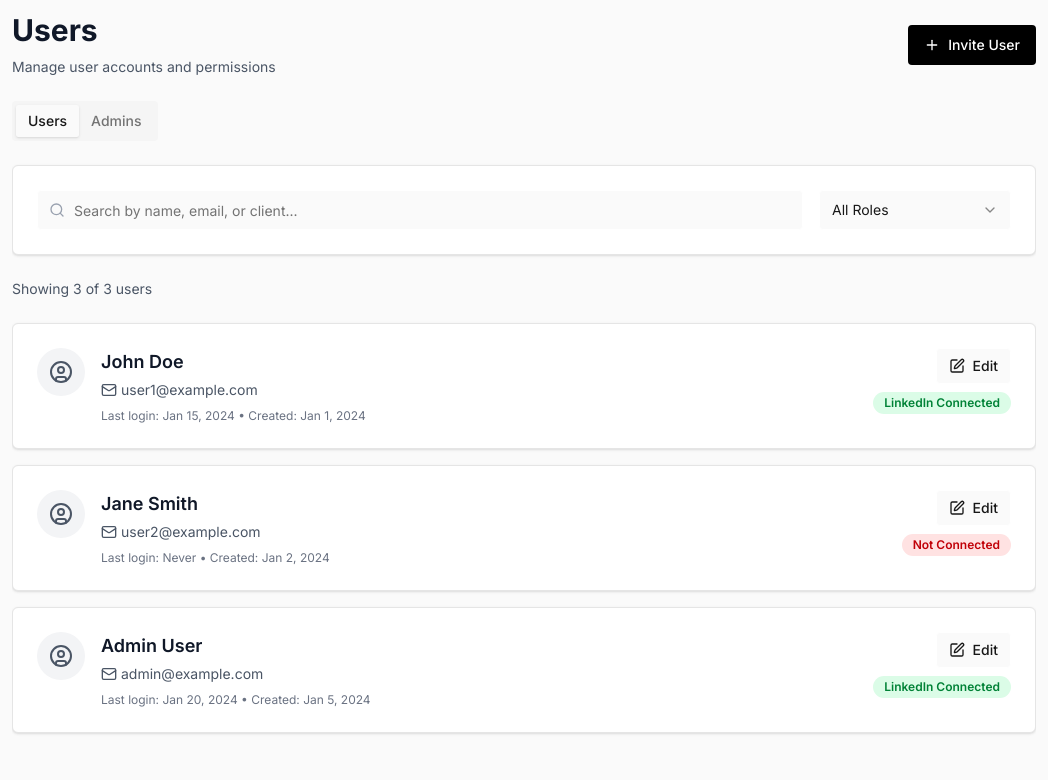
AdminUsersPage › Search Functionality › should filter users by search term
Expected: the heading "John Doe" is shown, [101,348,184,376]
Type "john" into the field with placeholder "Search by name, email, or client..." at point(420, 210), box [37,190,803,230]
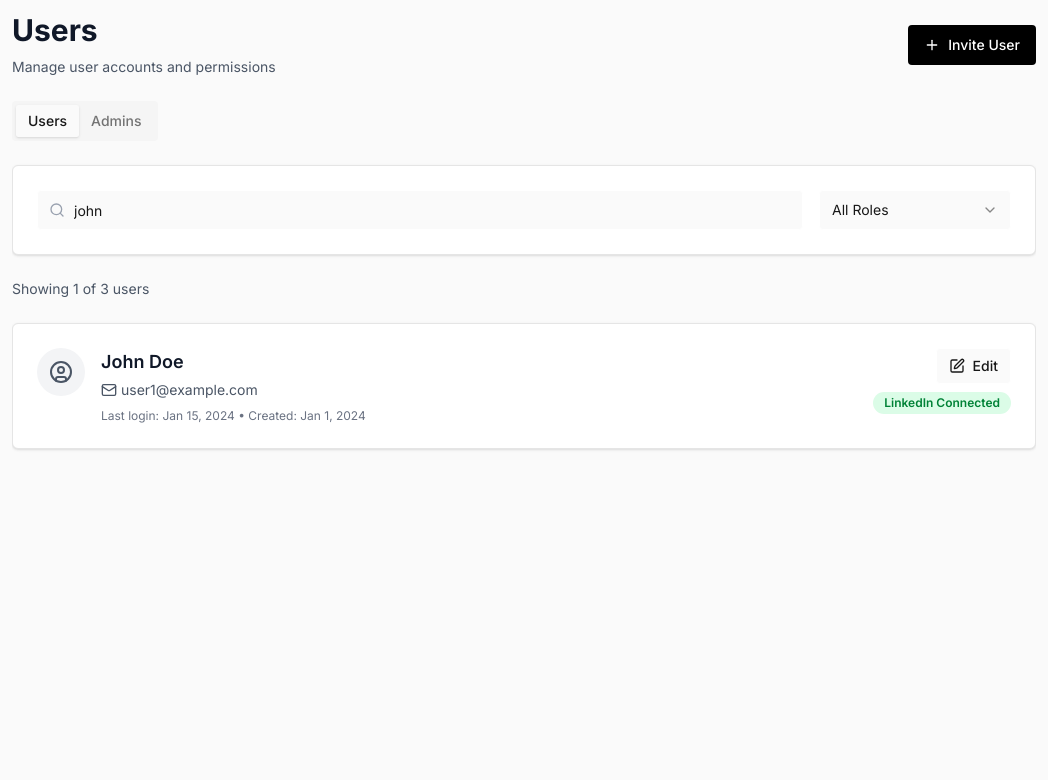
Expected: the heading "John Doe" is shown, [101,348,184,376]
Expected: the heading "Jane Smith" is gone
